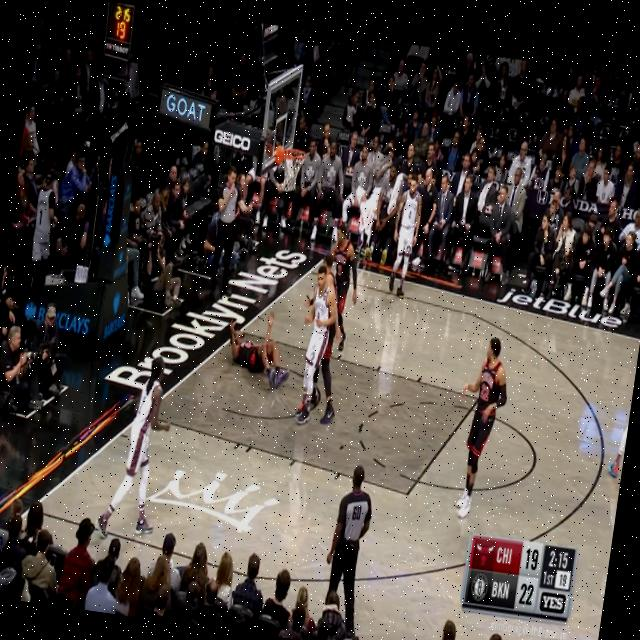foul: (215, 251, 348, 433)
no foul: (448, 341, 548, 530)
